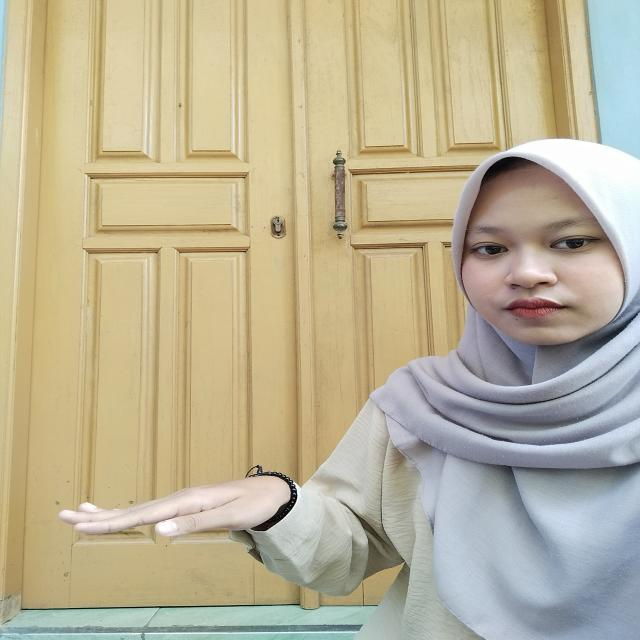adik: (48, 446, 336, 563)
